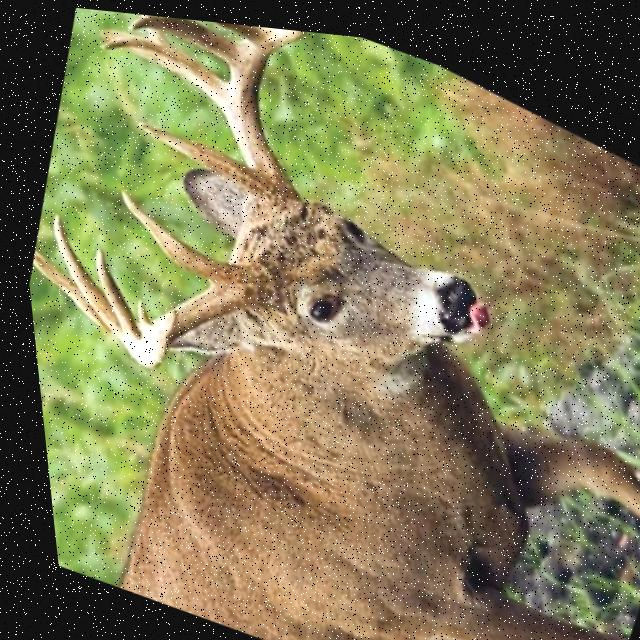E1: (129, 297, 145, 334), (98, 38, 120, 48)
L-F: (123, 256, 265, 366)
L-G1: (114, 186, 217, 278)
L-G3: (45, 213, 119, 347)
L-G4: (87, 245, 133, 343)
R-F: (219, 21, 305, 212)
R-G1: (131, 117, 251, 187)
R-G2: (97, 25, 226, 106)
R-G3: (129, 12, 234, 58)
R-G4: (210, 17, 261, 37)
